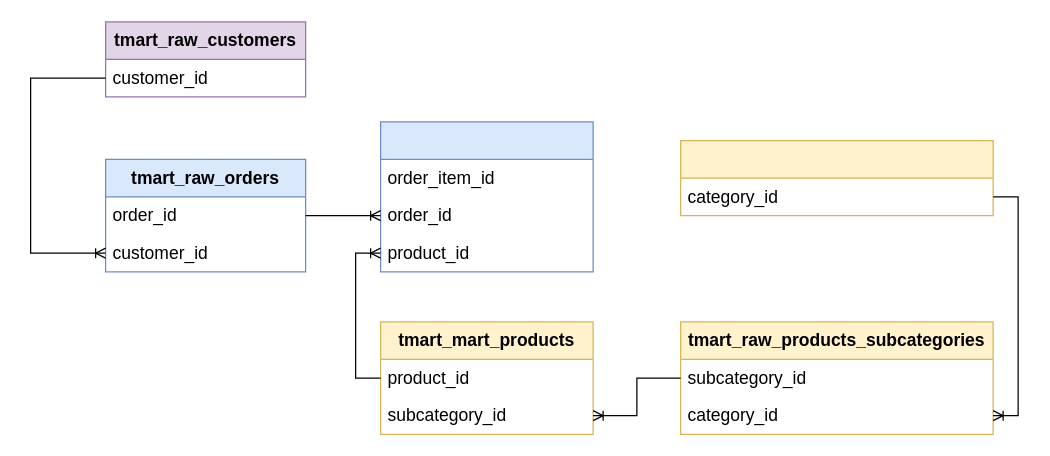
Some shapes in this 1050 by 456 pixel diagram are drawn without their labels. The shapes that lost their labels are listed below. From the top down, each one's box as (x1, y1, x2, y2) in pixels, then its label:
(379, 121, 593, 272): tmart_raw_order_items
(679, 139, 993, 216): tmart_raw_products_categories
